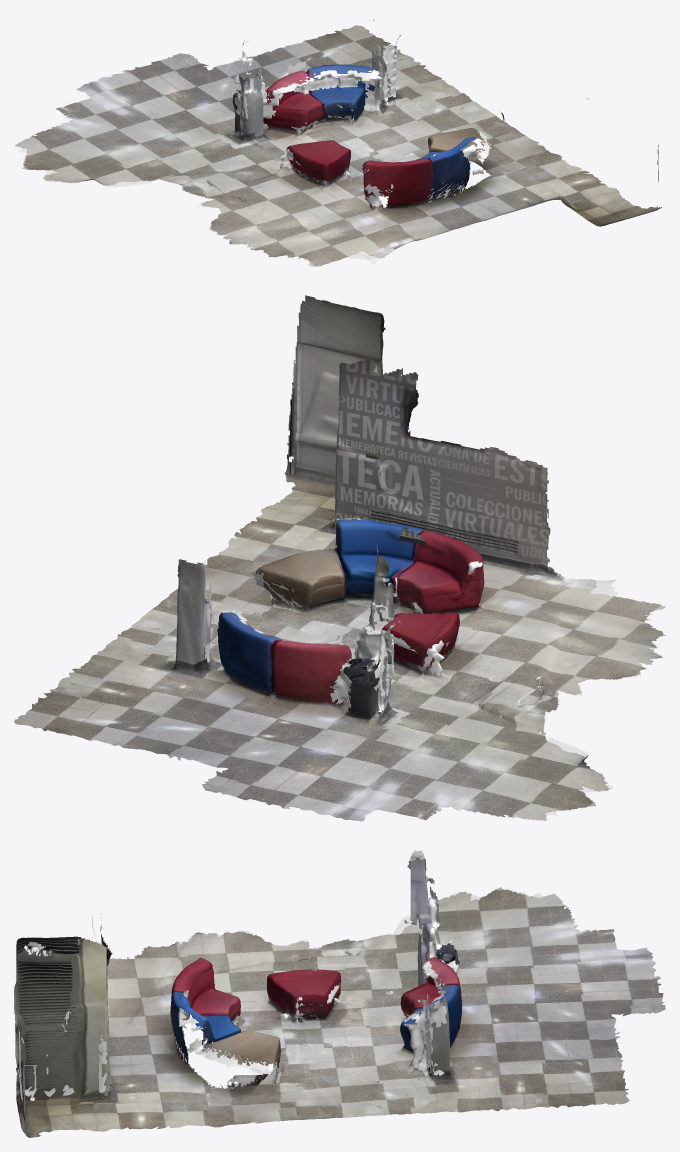
The picture shows the model from 3 angles, top to bottom: view 1: azimuth 30°, elevation 25°; view 2: azimuth 150°, elevation 25°; view 3: azimuth 270°, elevation 25°; orthographic projection. The views are drawn at different scales.
Parts seen in each view (by area): view 1: 5, 4, 1, 3, 6, 0; view 2: 5, 4, 3, 6, 1, 2, 0; view 3: 5, 3, 4, 6, 1, 0, 2.
Part boxes in pixels (box(x1,y1,x2,y2)): 5: box(14, 55, 441, 211); 4: box(201, 109, 503, 266); 1: box(256, 61, 589, 206); 3: box(173, 25, 557, 177); 6: box(343, 110, 653, 246); 0: box(18, 19, 657, 263); 5: box(58, 552, 610, 821); 4: box(279, 441, 665, 713); 3: box(14, 527, 454, 792); 6: box(222, 300, 570, 617); 1: box(121, 524, 459, 705); 2: box(285, 295, 337, 480); 0: box(177, 332, 640, 816); 5: box(184, 887, 664, 1112); 3: box(182, 857, 665, 1126); 4: box(92, 917, 424, 1102); 6: box(14, 914, 239, 1136); 1: box(109, 972, 468, 1128); 0: box(16, 850, 545, 1100); 2: box(16, 955, 77, 1137).
Bounding box in the file's own units: 8 × 2.47 × 8.74.
Materials: 7 (6 with a texture image).
